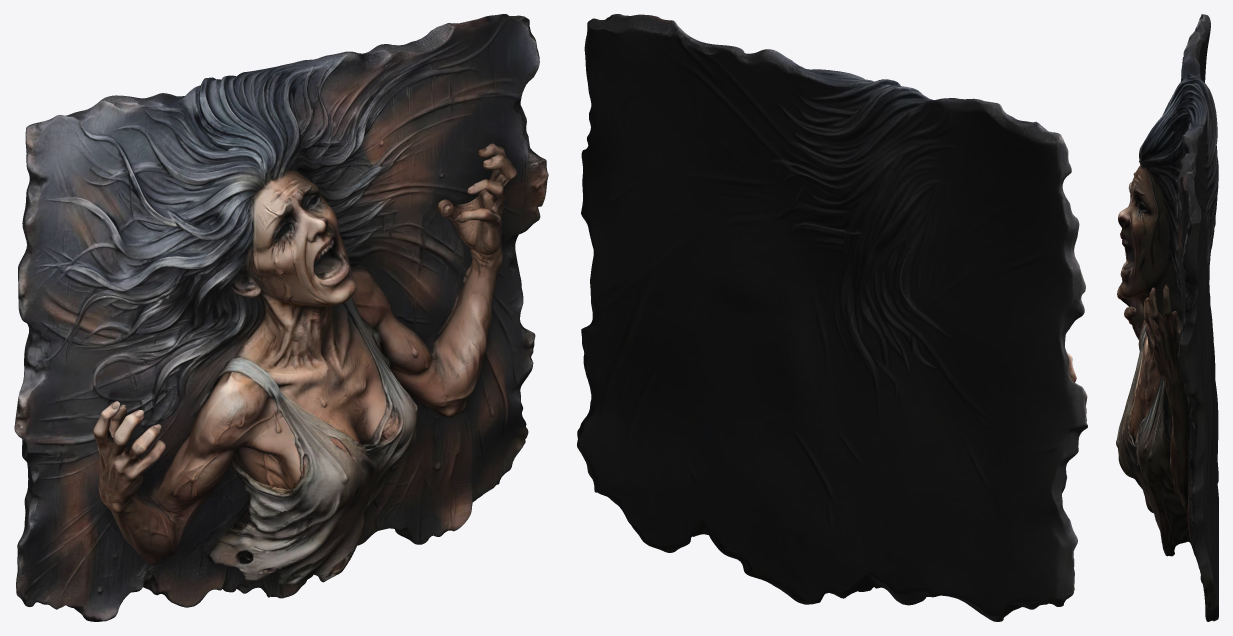
The model's file is H48-web.glb.
3 views of the same model, side by side, from view 1: azimuth 30°, elevation 25°; view 2: azimuth 150°, elevation 25°; view 3: azimuth 270°, elevation 25° (orthographic). The views are drawn at different scales.
Visible parts, largest first — view 1: tripo_node_79eeb8b6-08d7-4d38-b8a3-e0ad18537d38; view 2: tripo_node_79eeb8b6-08d7-4d38-b8a3-e0ad18537d38; view 3: tripo_node_79eeb8b6-08d7-4d38-b8a3-e0ad18537d38.
Boxes of the visible parts, x1=… form: tripo_node_79eeb8b6-08d7-4d38-b8a3-e0ad18537d38: x1=14, y1=14, x2=548, y2=621; tripo_node_79eeb8b6-08d7-4d38-b8a3-e0ad18537d38: x1=577, y1=14, x2=1087, y2=621; tripo_node_79eeb8b6-08d7-4d38-b8a3-e0ad18537d38: x1=1116, y1=14, x2=1218, y2=621.
Bounding box in the file's own units: 0.5963 × 0.6 × 0.12.
1 material, 1 textured.
